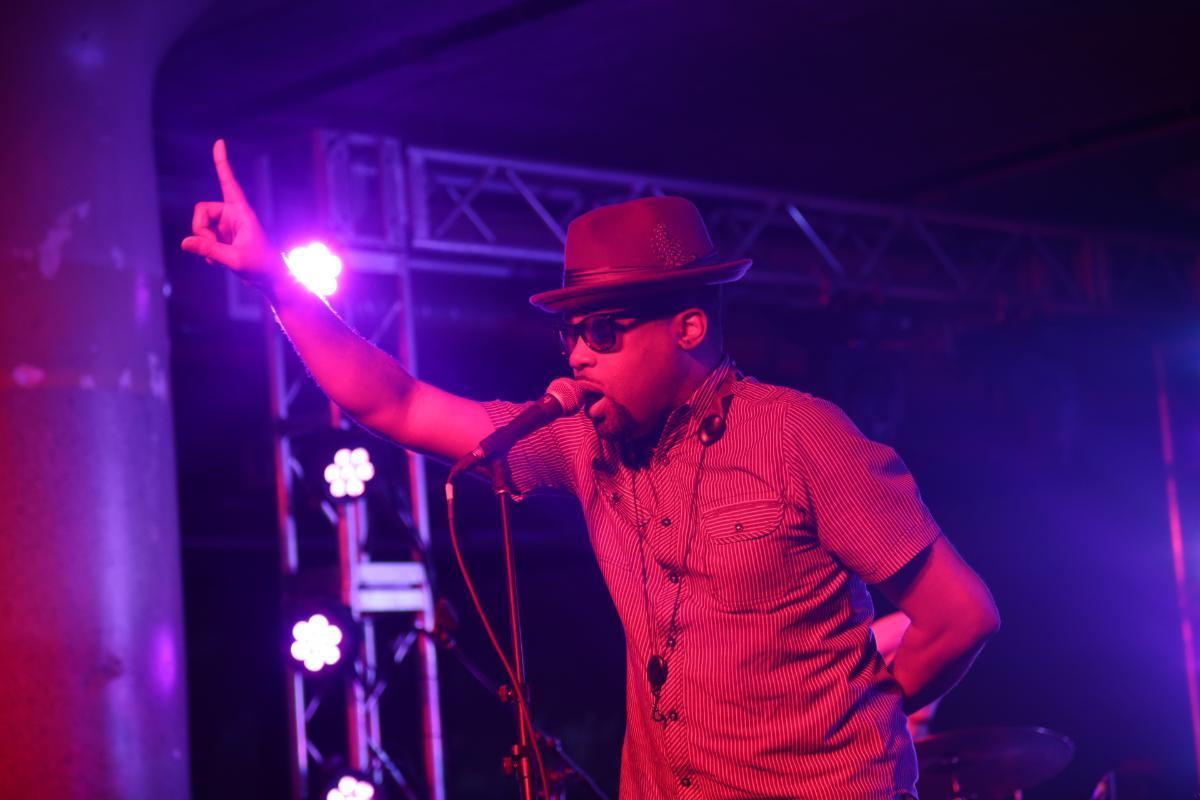Person: (171, 126, 1014, 800)
